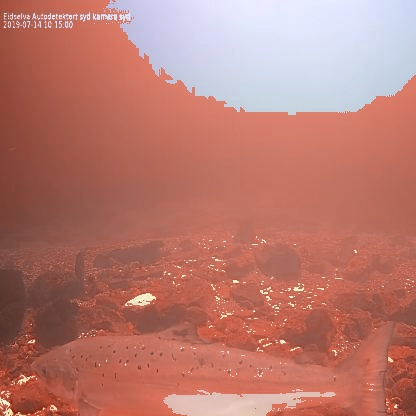salmon: (28, 316, 400, 416)
